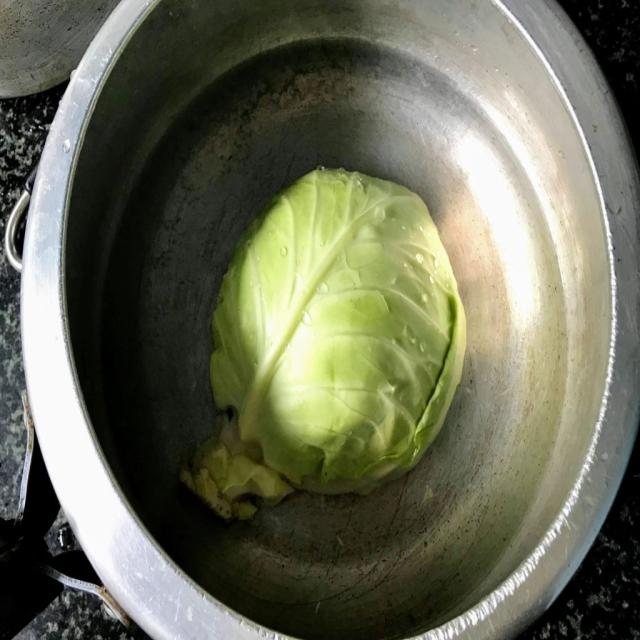haft-cabbage: (210, 167, 471, 498)
